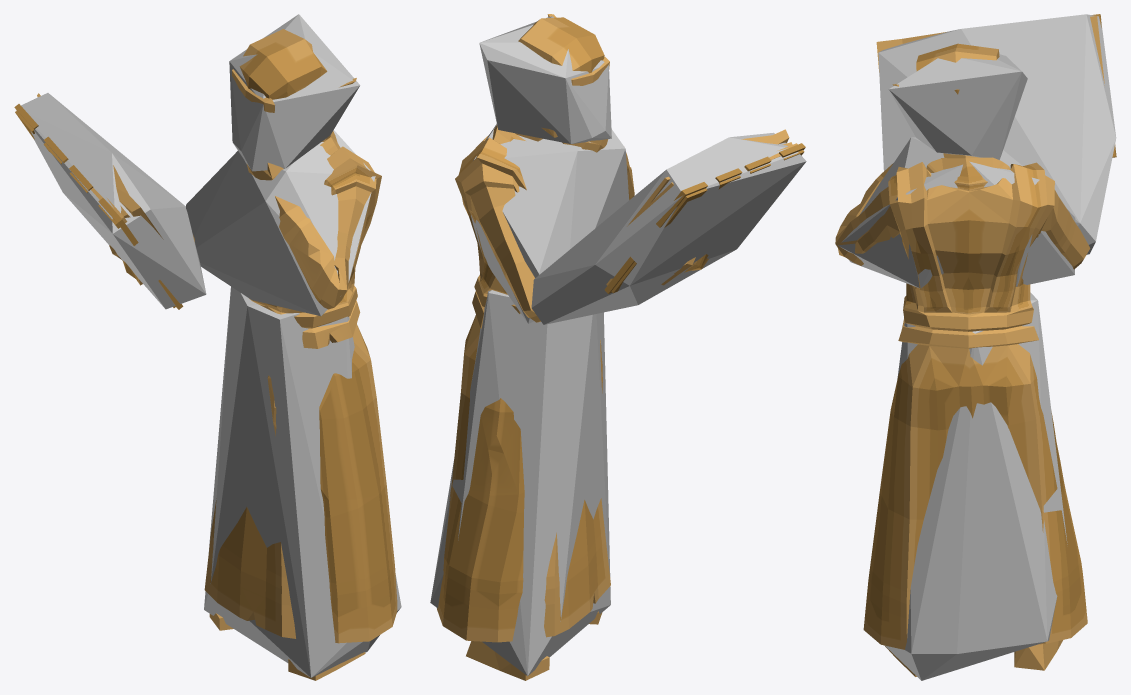
Rendered from SM_Prop_Statue_06.fbx.
The picture shows the model from 3 angles, left to right: view 1: azimuth 30°, elevation 25°; view 2: azimuth 150°, elevation 25°; view 3: azimuth 270°, elevation 25°; orthographic projection.
Parts seen in each view (by area): view 1: SM_Prop_Statue_06_ConvexHulls, SM_Prop_Statue_06; view 2: SM_Prop_Statue_06_ConvexHulls, SM_Prop_Statue_06; view 3: SM_Prop_Statue_06_ConvexHulls, SM_Prop_Statue_06.
Boxes of the visible parts, <box> form: SM_Prop_Statue_06_ConvexHulls: <box>21,14,401,677</box>; SM_Prop_Statue_06: <box>14,29,397,680</box>; SM_Prop_Statue_06_ConvexHulls: <box>430,16,806,676</box>; SM_Prop_Statue_06: <box>437,14,805,680</box>; SM_Prop_Statue_06_ConvexHulls: <box>838,14,1116,680</box>; SM_Prop_Statue_06: <box>835,14,1116,676</box>.
Bounding box in the file's own units: 93.16 × 75.37 × 180.
Materials: 2 (1 with a texture image).
